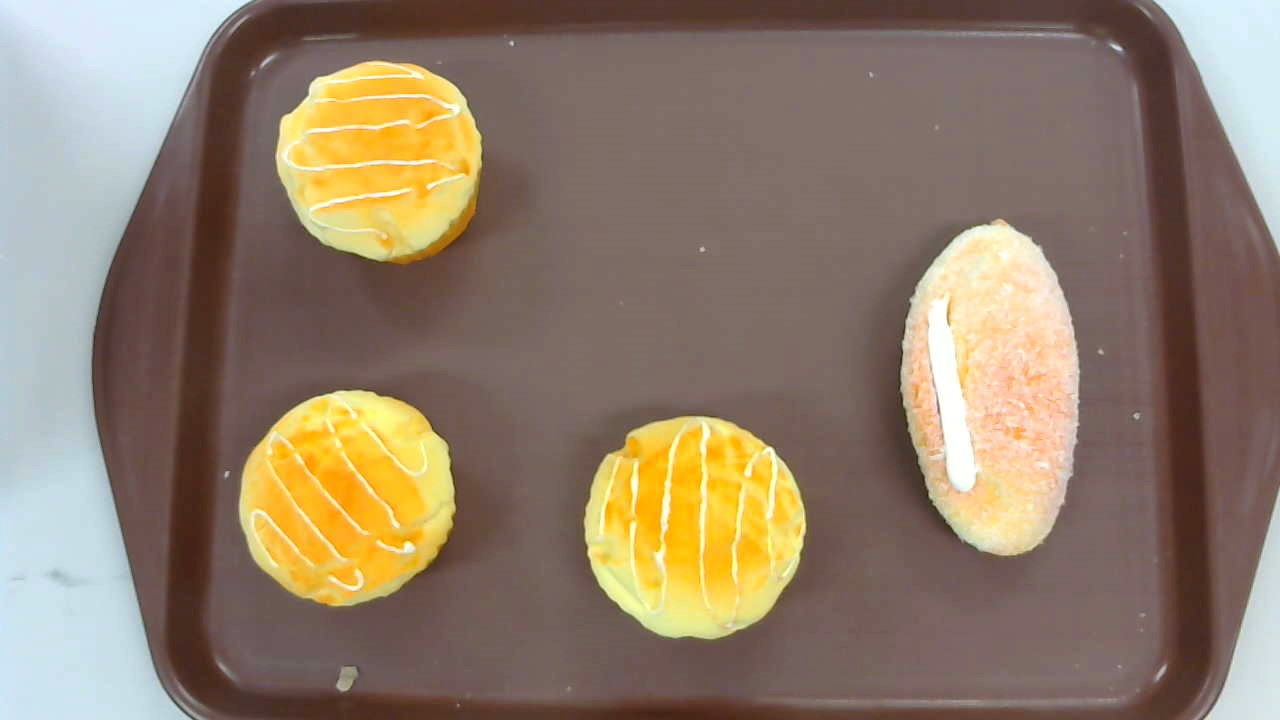coconut: (900, 217, 1080, 559)
cupcake: (583, 413, 807, 641), (238, 388, 455, 609), (274, 60, 482, 266)
